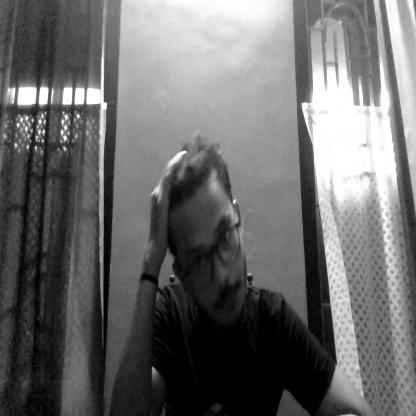Distracted: (156, 138, 260, 349)
